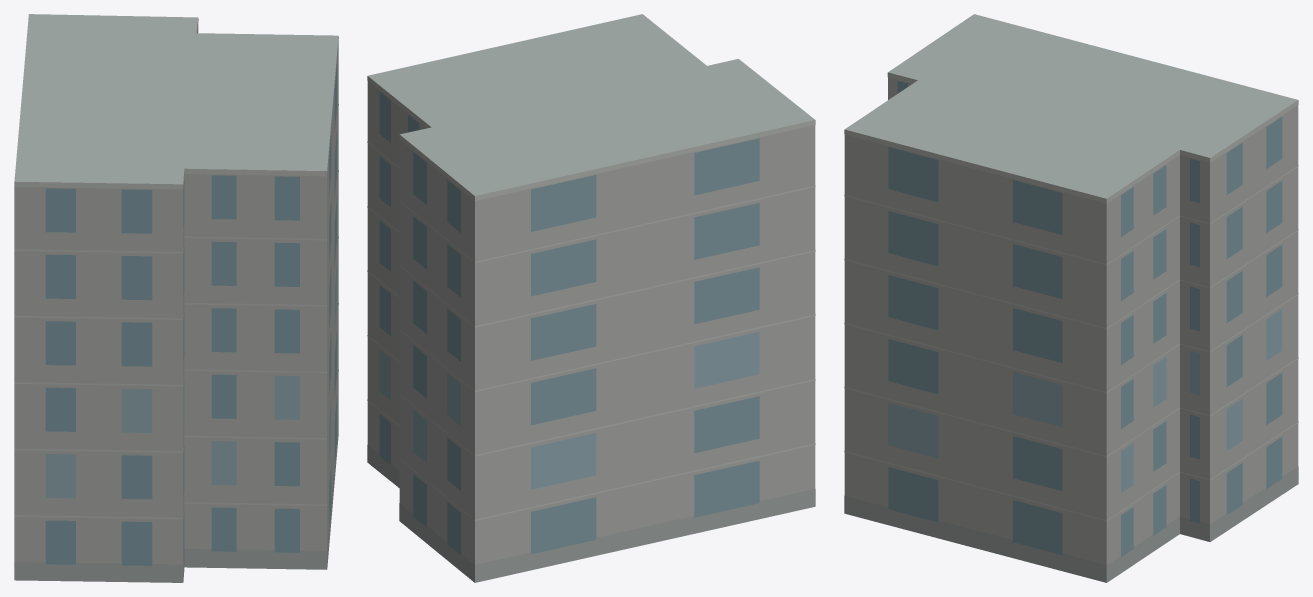
The model's file is survey-upis-32789498.glb.
3 renders of one model, left to right at view 1: azimuth 30°, elevation 25°; view 2: azimuth 150°, elevation 25°; view 3: azimuth 270°, elevation 25°, orthographic. The views are drawn at different scales.
Parts seen in each view (by area): view 1: survey-upis-32789498.tmp; view 2: survey-upis-32789498.tmp; view 3: survey-upis-32789498.tmp.
Boxes of the visible parts, bbox=[...] form: survey-upis-32789498.tmp: bbox=[14, 14, 338, 582]; survey-upis-32789498.tmp: bbox=[367, 14, 815, 582]; survey-upis-32789498.tmp: bbox=[844, 14, 1298, 582].
Bounding box in the file's own units: 19.31 × 18.7 × 20.05.
